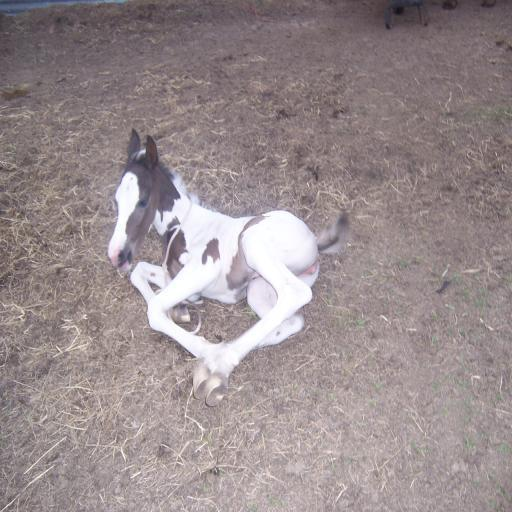horse: (106, 126, 350, 408)
